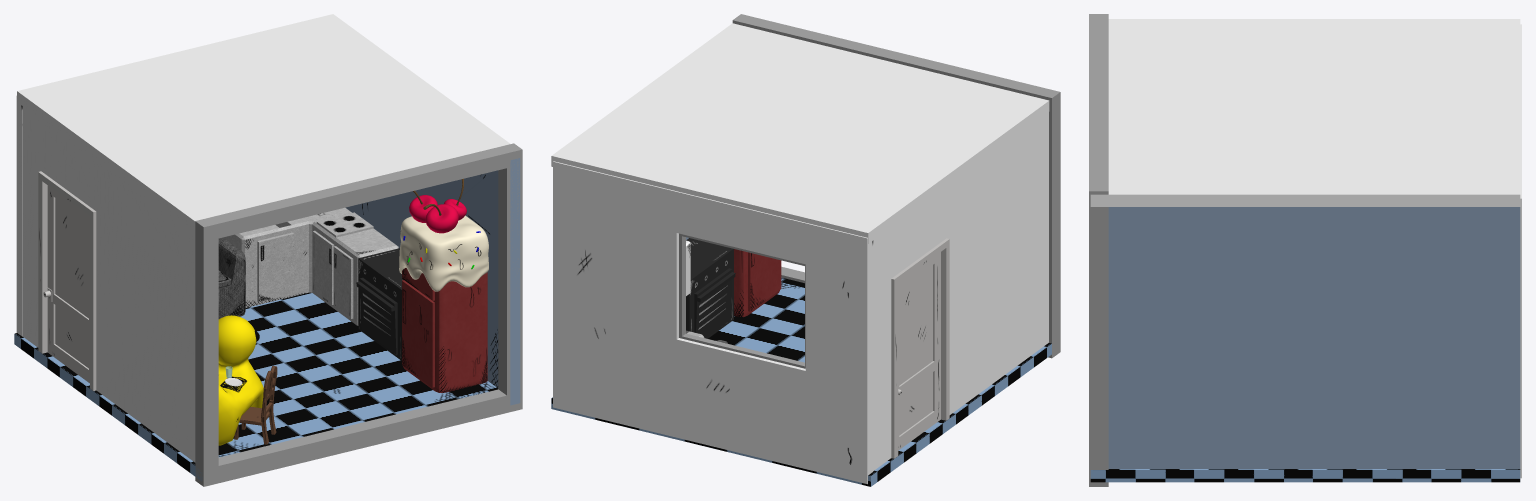
The model's file is Kitchen.fbx.
The picture shows the model from 3 angles, left to right: view 1: azimuth 30°, elevation 25°; view 2: azimuth 150°, elevation 25°; view 3: azimuth 270°, elevation 25°; orthographic projection. The views are drawn at different scales.
Visible parts, largest first — view 1: Ceiling, LeftWall, OutsideFrame, Floor, DishWasher, Fridge, RightWall, Door2, Cream1, Duck, Oven, Door3 (+4 smaller); view 2: WallBackground, Ceiling, LeftWall, Floor, Door2, OutsideFrame, Oven, Door3, Fridge, WindowFrame; view 3: RightWall, Ceiling, OutsideFrame, Floor, WallBackground.
Boxes of the visible parts, left/top/right/bottom form: Ceiling: left=17, top=14, right=510, bottom=231; LeftWall: left=22, top=106, right=195, bottom=462; OutsideFrame: left=195, top=143, right=522, bottom=486; Floor: left=14, top=292, right=497, bottom=481; DishWasher: left=223, top=207, right=398, bottom=325; Fridge: left=402, top=268, right=487, bottom=392; RightWall: left=345, top=158, right=520, bottom=405; Door2: left=47, top=185, right=89, bottom=383; Cream1: left=399, top=215, right=488, bottom=291; Duck: left=218, top=315, right=263, bottom=445; Oven: left=356, top=248, right=402, bottom=360; Door3: left=38, top=171, right=96, bottom=390; WallBackground: left=553, top=161, right=873, bottom=484; Ceiling: left=551, top=23, right=1049, bottom=243; LeftWall: left=873, top=112, right=1048, bottom=470; Floor: left=551, top=277, right=1051, bottom=486; Door2: left=898, top=252, right=940, bottom=450; OutsideFrame: left=732, top=14, right=1060, bottom=358; Oven: left=686, top=238, right=735, bottom=338; Door3: left=891, top=238, right=949, bottom=458; Fridge: left=734, top=249, right=781, bottom=317; WindowFrame: left=679, top=233, right=805, bottom=368; RightWall: left=1108, top=207, right=1520, bottom=468; Ceiling: left=1090, top=19, right=1520, bottom=206; OutsideFrame: left=1089, top=14, right=1108, bottom=486; Floor: left=1090, top=469, right=1520, bottom=482; WallBackground: left=1520, top=24, right=1521, bottom=478.
Size of the model in its own units: 235 by 183 by 242.
25 materials, 14 textured.
